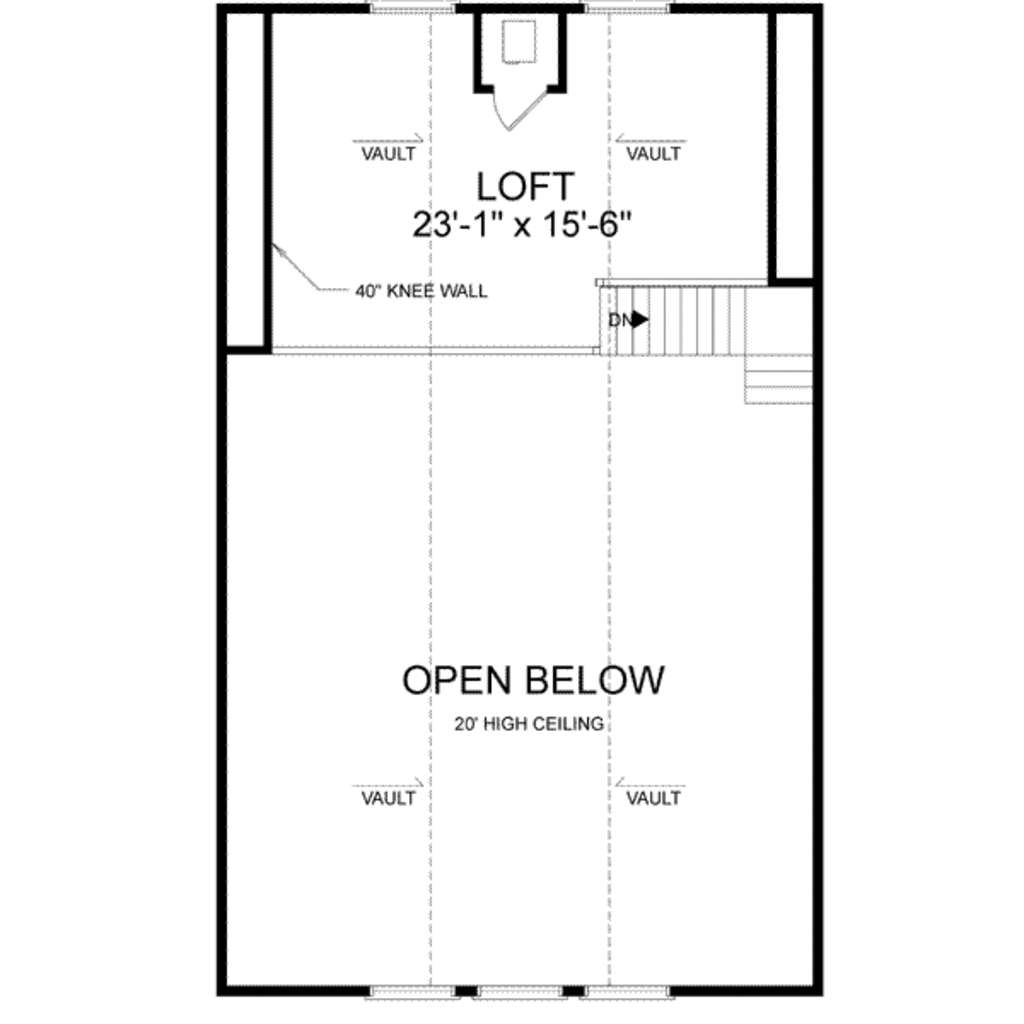door: (491, 82, 552, 141)
stairs: (598, 260, 814, 425)
window: (475, 980, 569, 1003), (583, 982, 675, 1005), (365, 1, 460, 22), (359, 983, 458, 1002), (577, 2, 673, 16)
